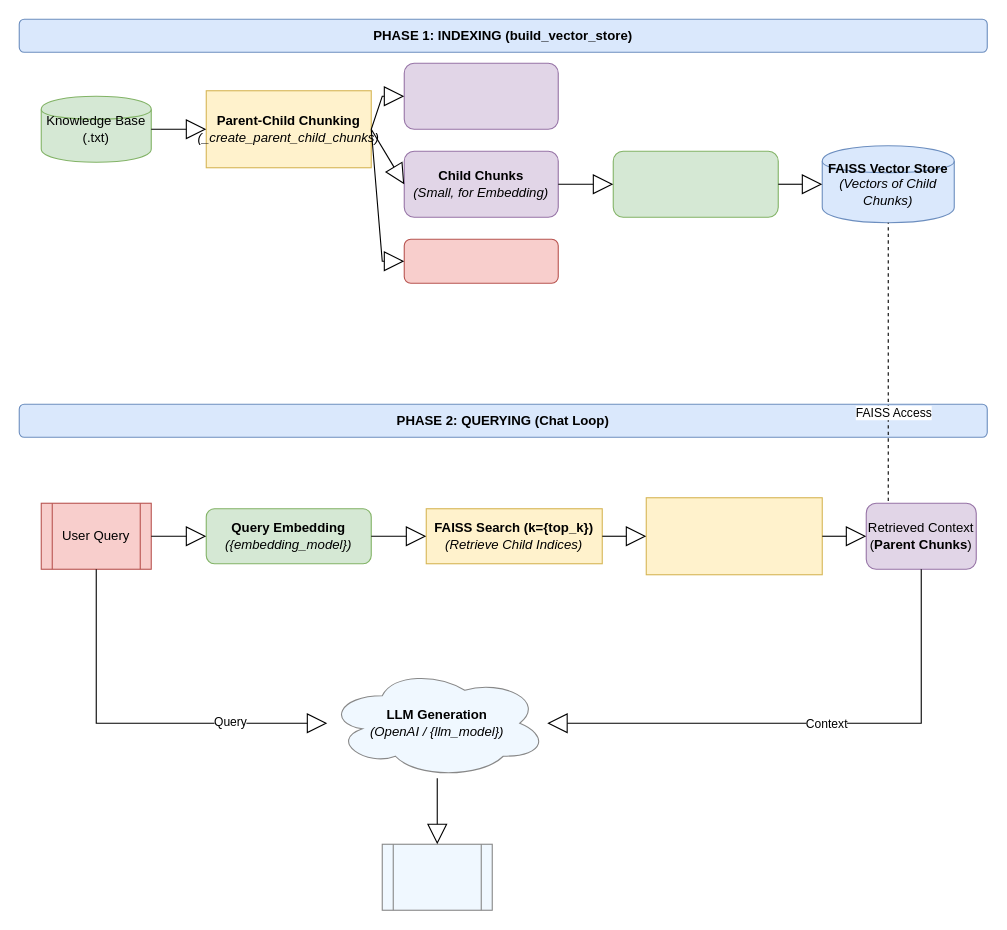
This 1007x930 diagram has some shape labels left out. The shapes that lost their labels are listed below. From the top down, each one's centre as x and y in pixels, then its label:
point (480, 95): Parent Chunks (Large, for Generation)
point (695, 183): Sentence Transformer ({embedding_model})
point (480, 260): Map (Index) Child -> Parent
point (733, 536): Map Child Indices to Parent Chunks (Using Child -> Parent Map)
point (436, 876): Final Response (Markdown Output)
